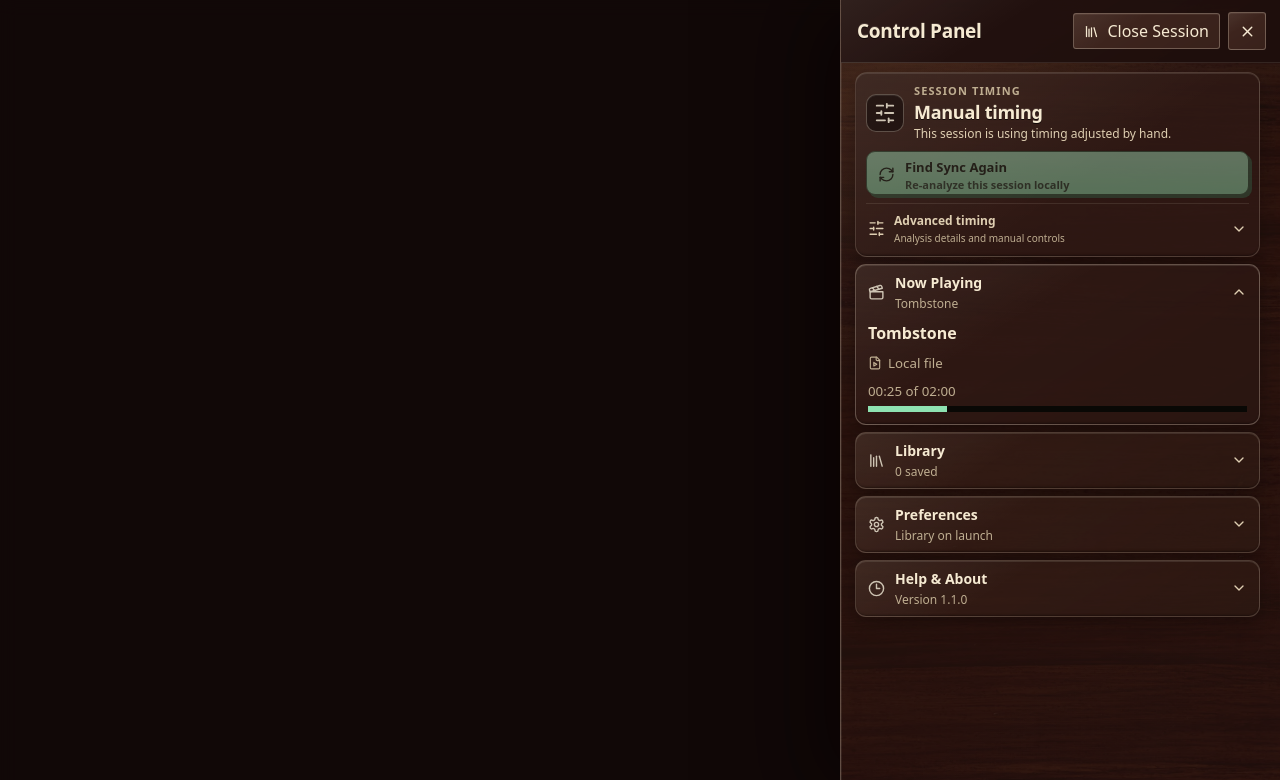
Test: CommandPanel session timing › keeps the current session status accurate while another session is being analyzed
The width and height of the screenshot is (1280, 780).
Expected: the heading "Manual timing" is shown, top-left (914, 100), bottom-right (1043, 124)
Expected: the button "Find Sync Again Re-analyze this session locally" is disabled, top-left (866, 151), bottom-right (1249, 195)
Click the text "Advanced timing" at (945, 221), box top-left (894, 212), bottom-right (996, 229)
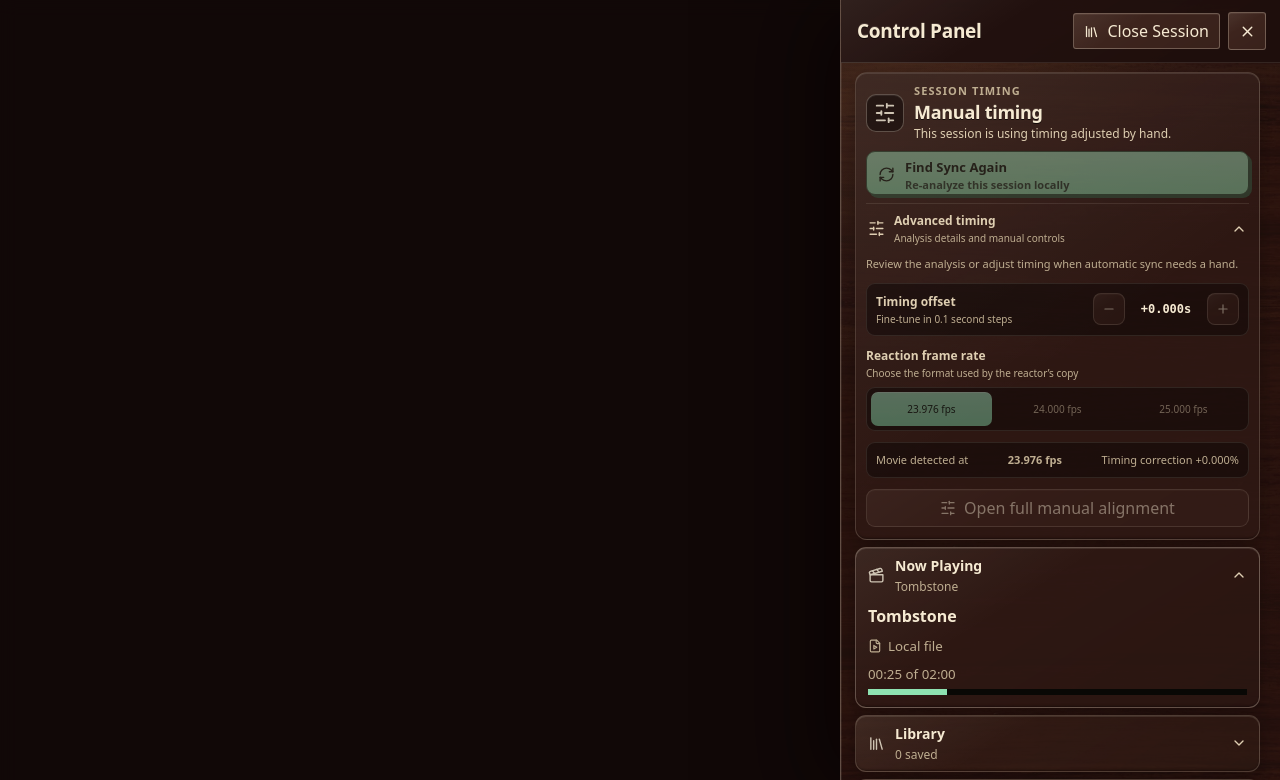
Expected: the button named "Increase timing offset by 0.1 seconds" is disabled, top-left (1207, 293), bottom-right (1239, 325)
Expected: the button "Open full manual alignment" is disabled, top-left (866, 489), bottom-right (1249, 527)
Expected: the button "23.976 fps" is disabled, top-left (871, 392), bottom-right (992, 426)
